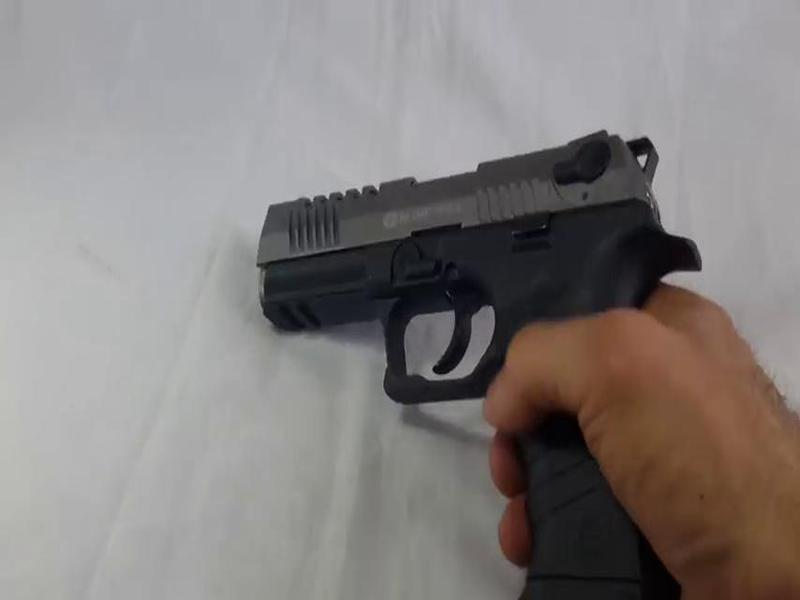Pistola: (227, 69, 737, 600)
